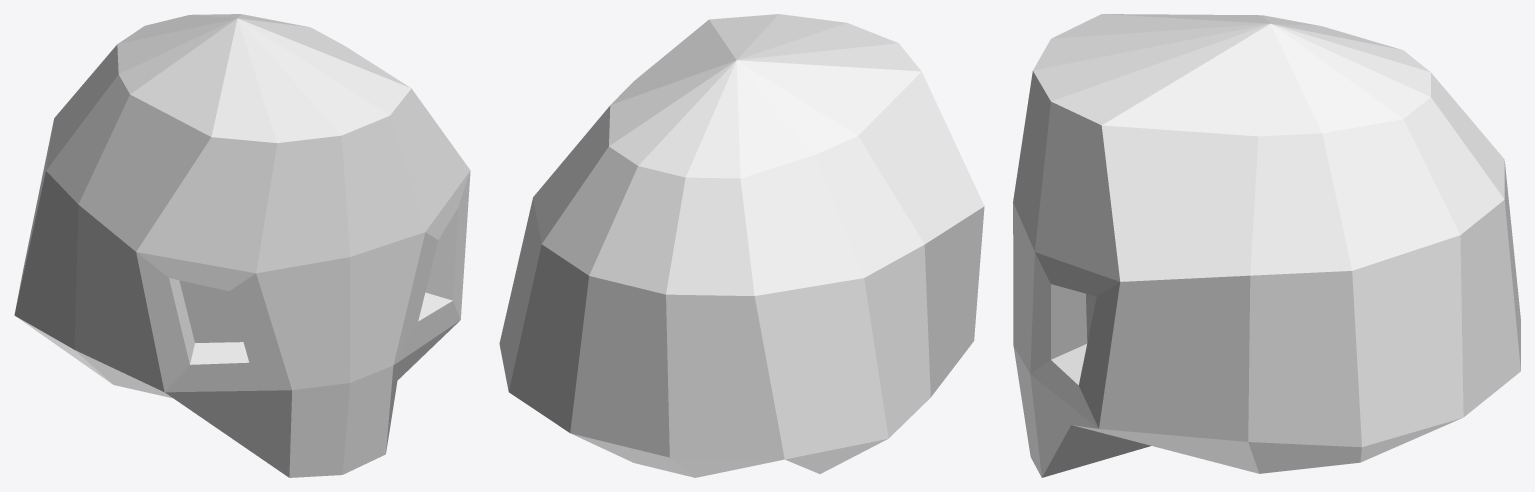
Rendered from skull.glb.
The picture shows the model from 3 angles, left to right: view 1: azimuth 30°, elevation 25°; view 2: azimuth 150°, elevation 25°; view 3: azimuth 270°, elevation 25°; orthographic projection. The views are drawn at different scales.
Visible parts, largest first — view 1: skull; view 2: skull; view 3: skull.
Boxes of the visible parts, box(x1,y1,x2,y2) form: skull: box(14, 14, 470, 477); skull: box(499, 14, 984, 477); skull: box(1013, 14, 1520, 477).
Bounding box in the file's own units: 0.2964 × 0.2939 × 0.3122.
1 material, 1 textured.
